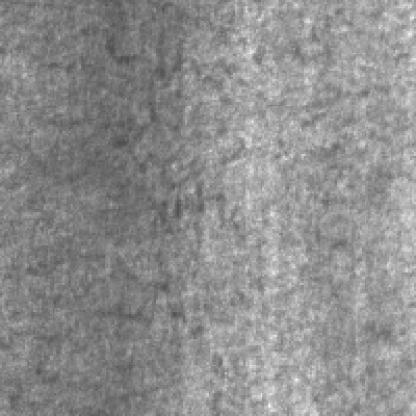crazing: (94, 17, 240, 254)
